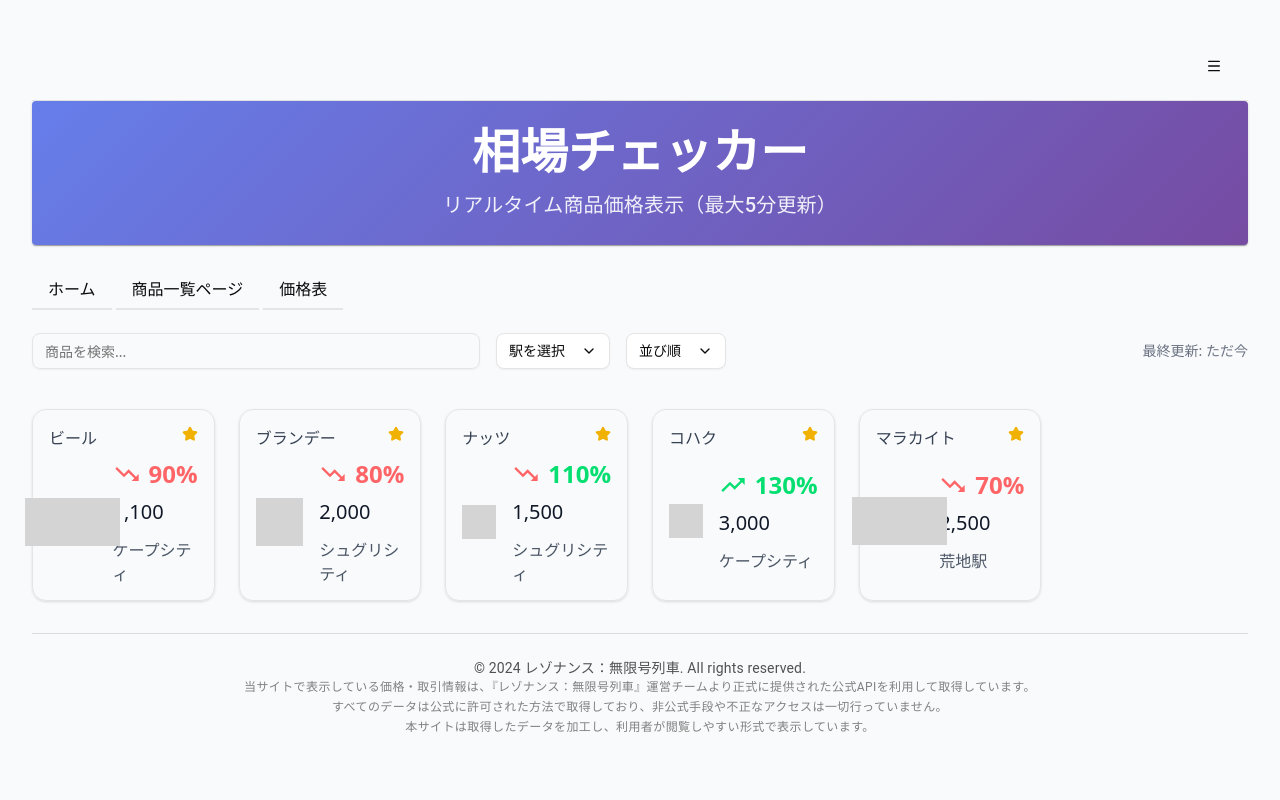
Test: OverviewPage › filters items by search query
Expected: the text "ビール" is shown, x1=49 y1=427 x2=97 y2=449
Type "ビール" into the field with placeholder "商品を検索..." at (256, 351), box x1=32 y1=333 x2=480 y2=369
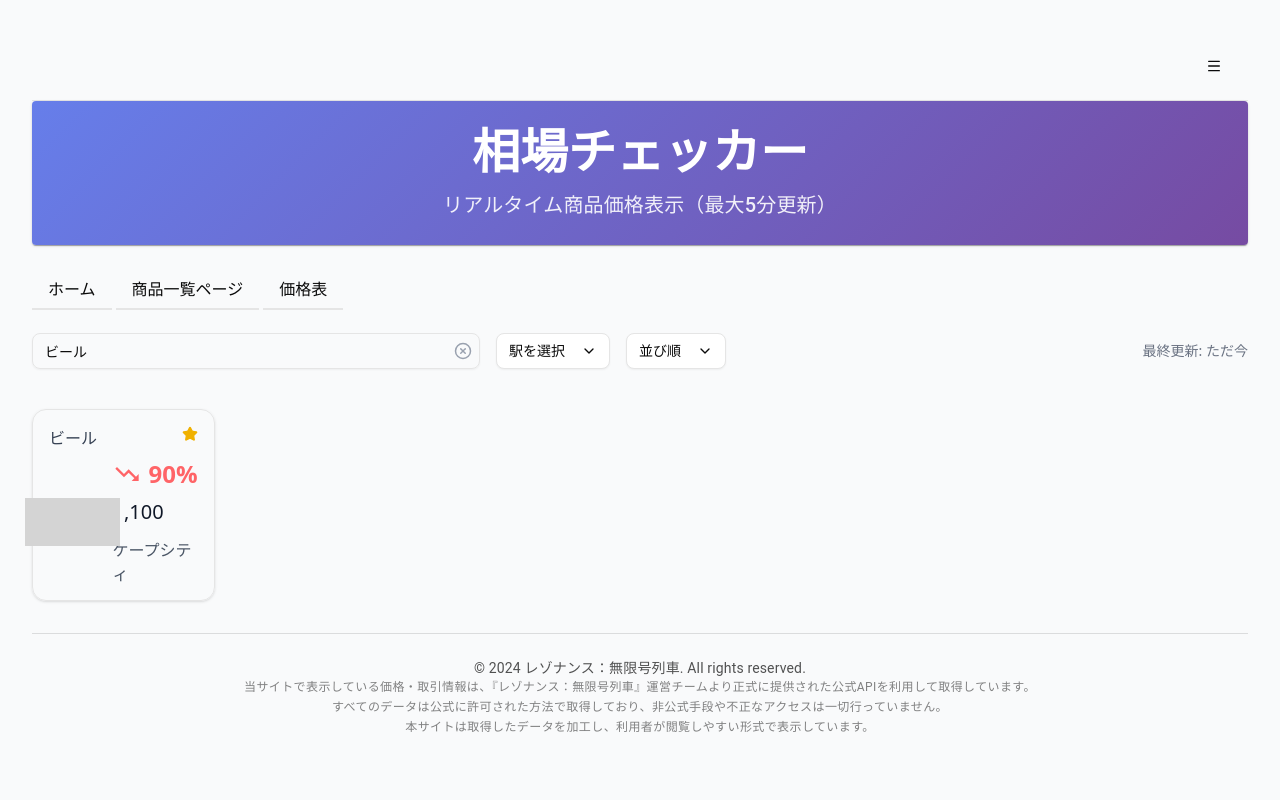
Expected: the text "ビール" is shown, x1=49 y1=427 x2=97 y2=449
Now the text "ブランデー" is gone
